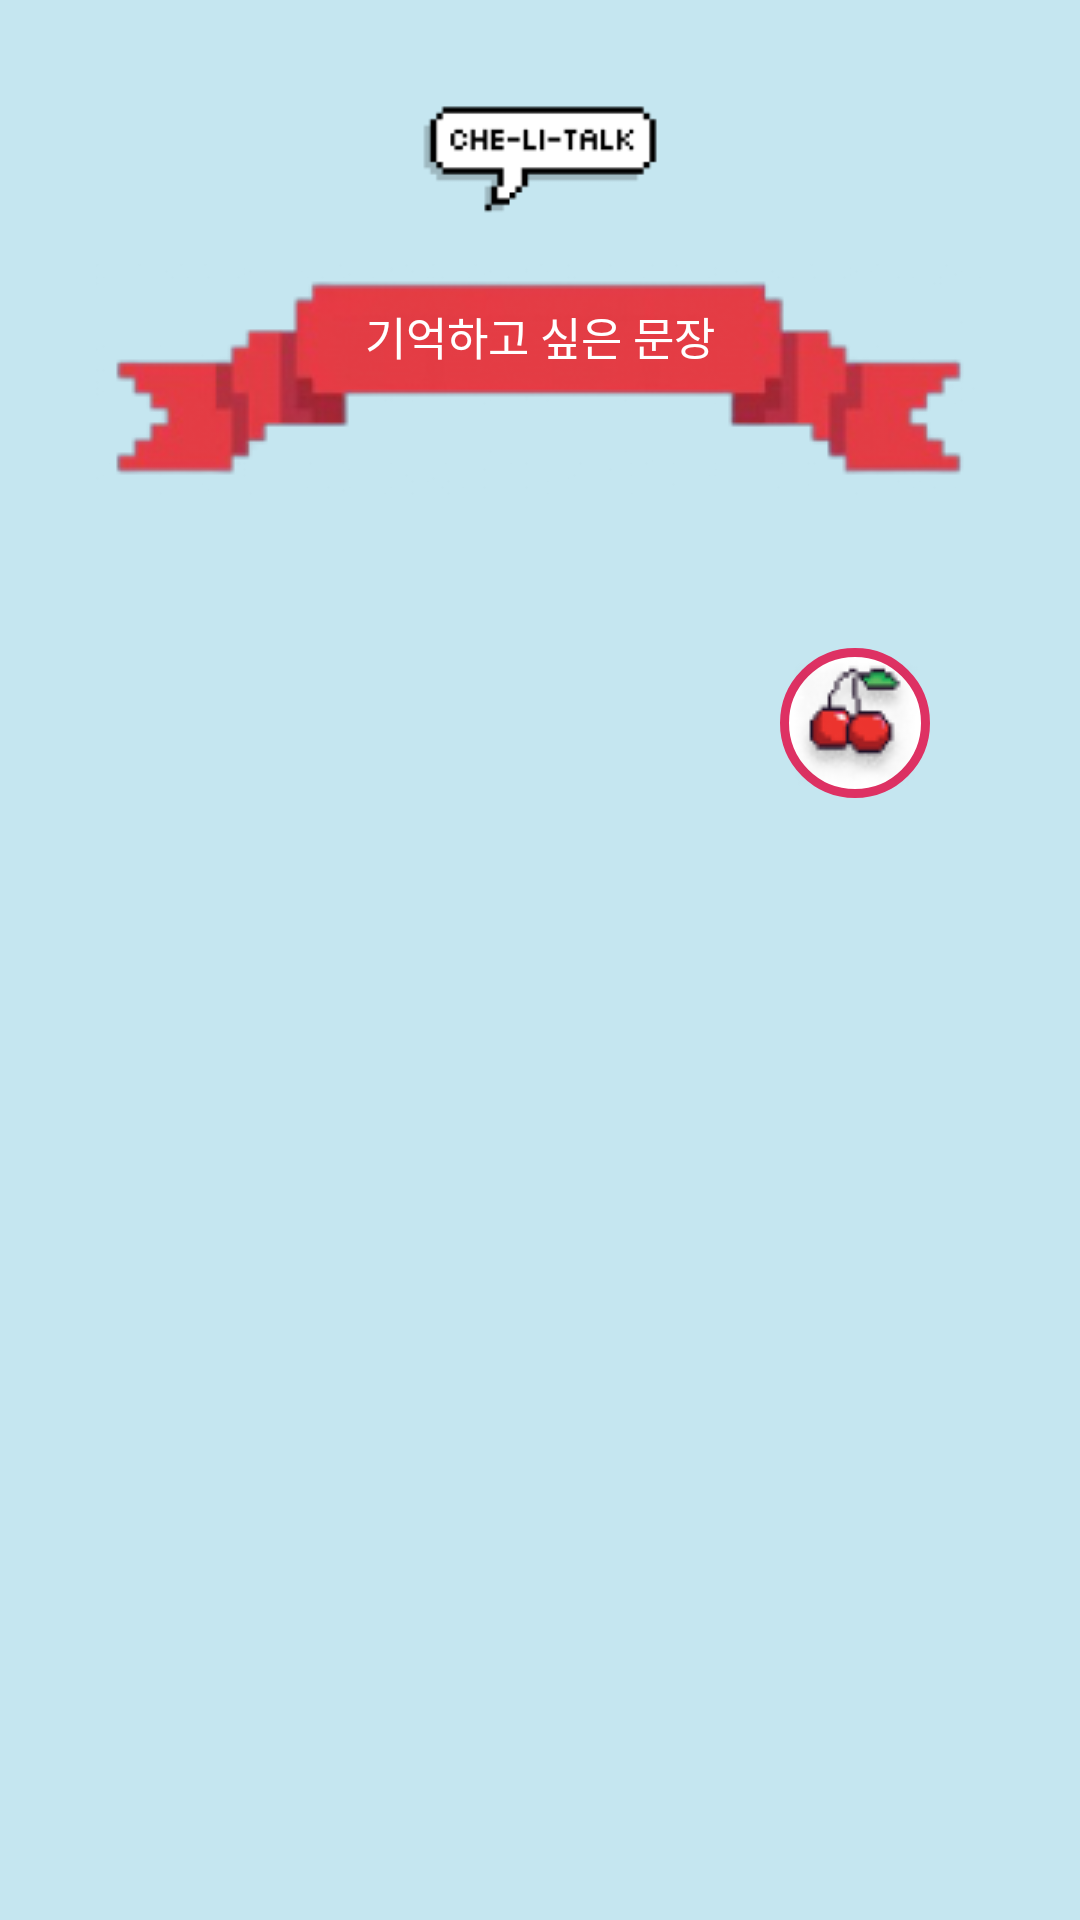

Where to tap for icons on this 1080 x 1920 app screen, as (x,y):
cherries: (855,723)
